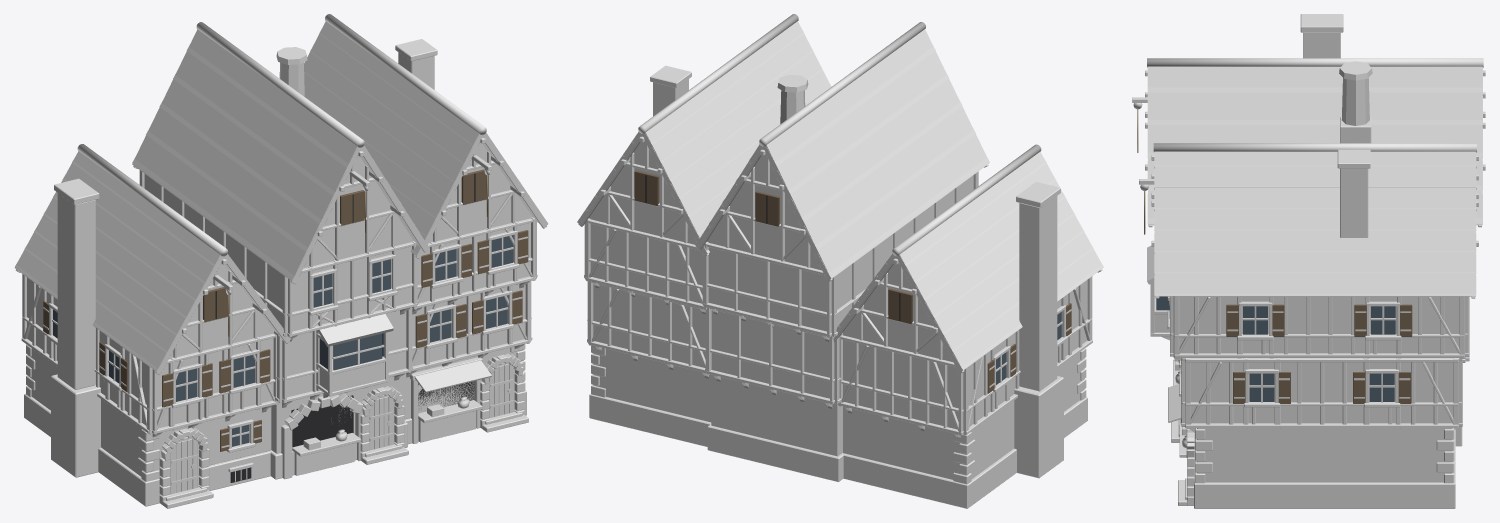
The model's file is ville_10_collees_trio_rue.fbx.
The picture shows the model from 3 angles, left to right: view 1: azimuth 30°, elevation 25°; view 2: azimuth 150°, elevation 25°; view 3: azimuth 270°, elevation 25°; orthographic projection. The views are drawn at different scales.
Visible parts, largest first — view 1: ville_10_collees_trio_rue_LOD0; view 2: ville_10_collees_trio_rue_LOD0; view 3: ville_10_collees_trio_rue_LOD0.
Part boxes in pixels (<box>): ville_10_collees_trio_rue_LOD0: <box>14,14,548,508</box>; ville_10_collees_trio_rue_LOD0: <box>577,14,1103,508</box>; ville_10_collees_trio_rue_LOD0: <box>1132,14,1485,508</box>.
Size of what is drawn, in the model's own units: 14.6 by 11.83 by 10.52.
